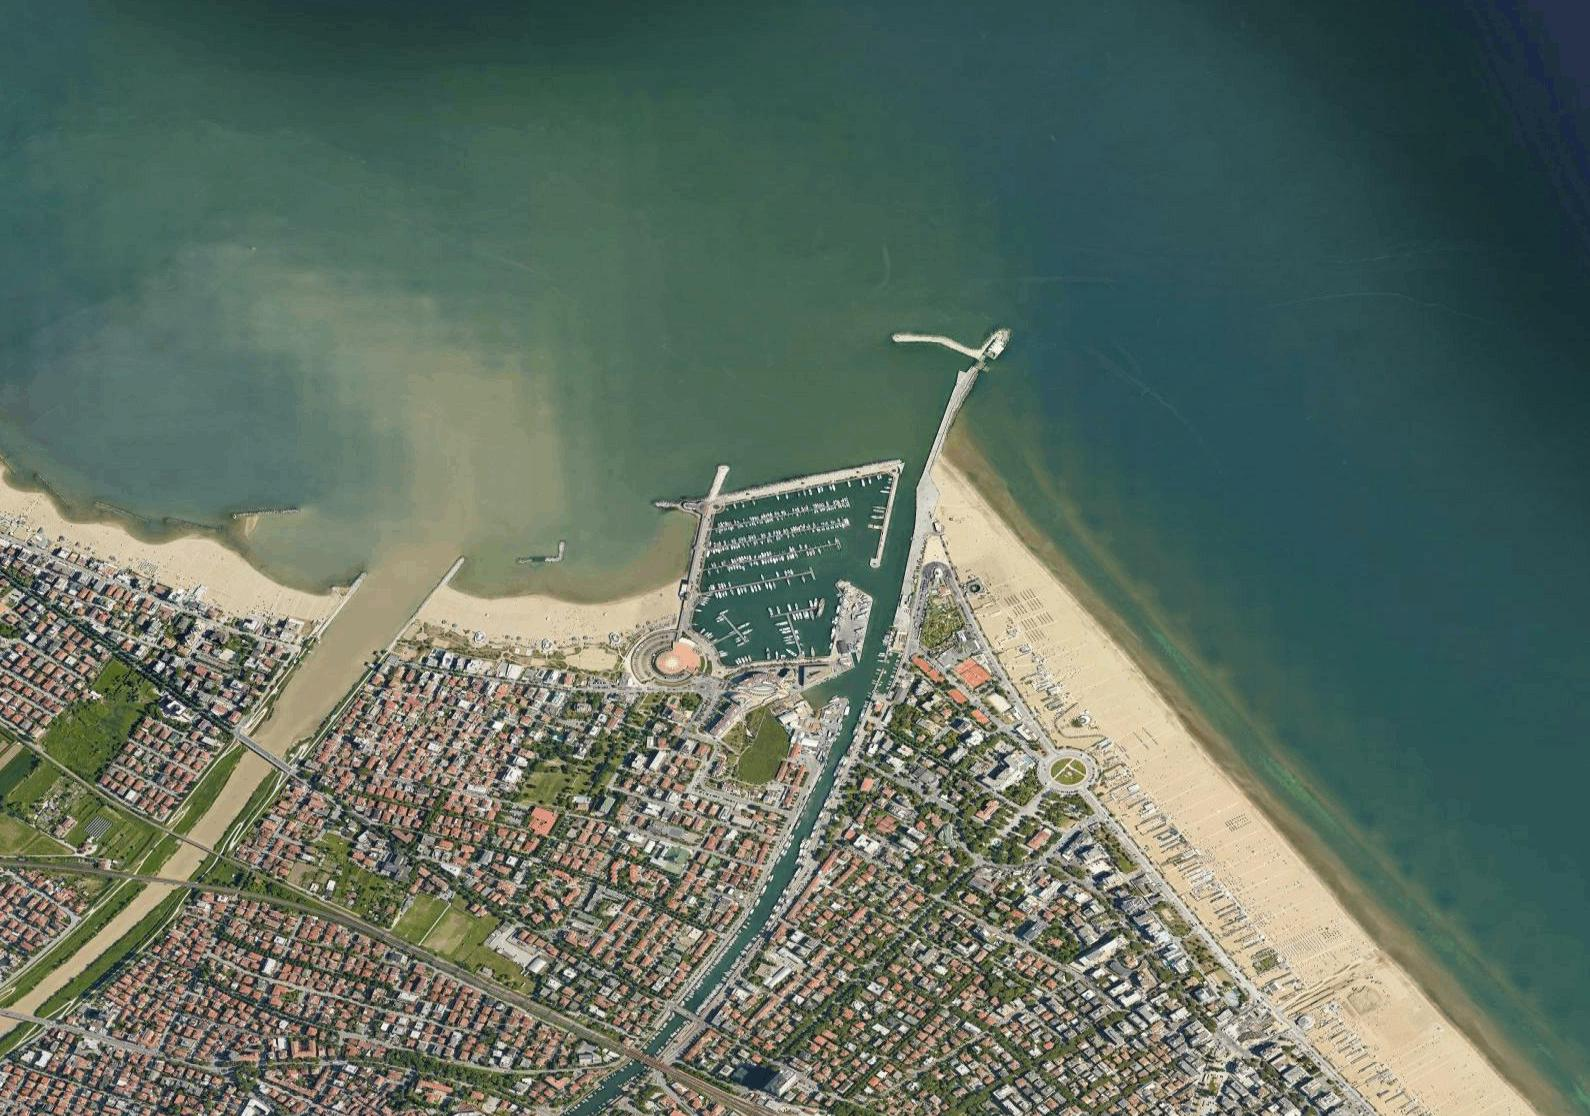bridge: (237, 734, 290, 772), (147, 867, 188, 894), (176, 830, 214, 858), (1, 1004, 36, 1027)
harbor: (627, 316, 1019, 702)
